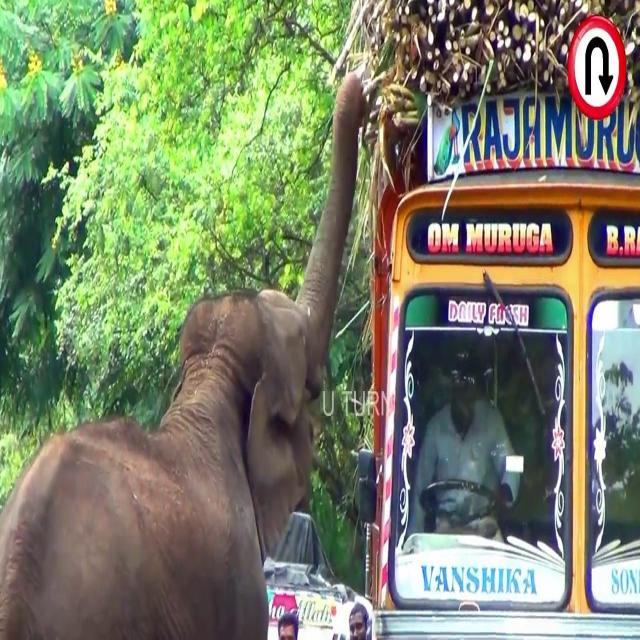Elephant: (0, 70, 368, 631)
